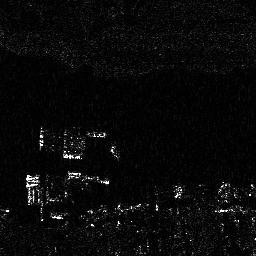ship: (86, 131, 108, 138)
